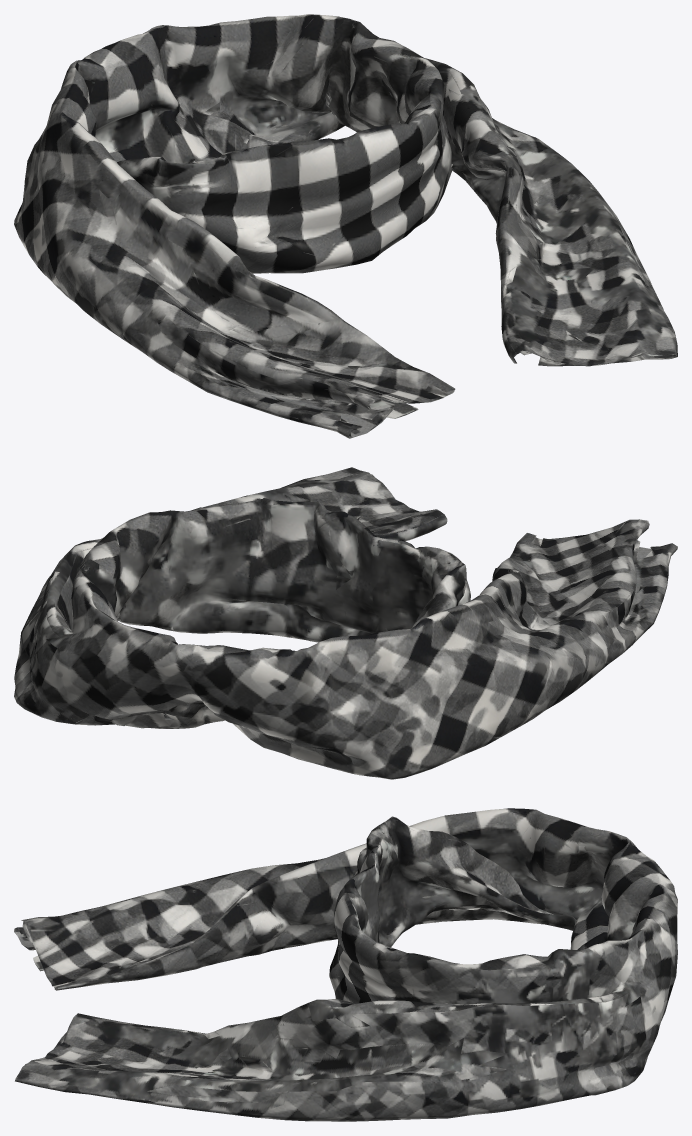
Rendered from khan-ran-nam-bo-3d.glb.
3 renders of one model, top to bottom at view 1: azimuth 30°, elevation 25°; view 2: azimuth 150°, elevation 25°; view 3: azimuth 270°, elevation 25°, orthographic. The views are drawn at different scales.
Size of the model in its own units: 0.7793 by 0.2017 by 0.9512.
1 material, 1 textured.
